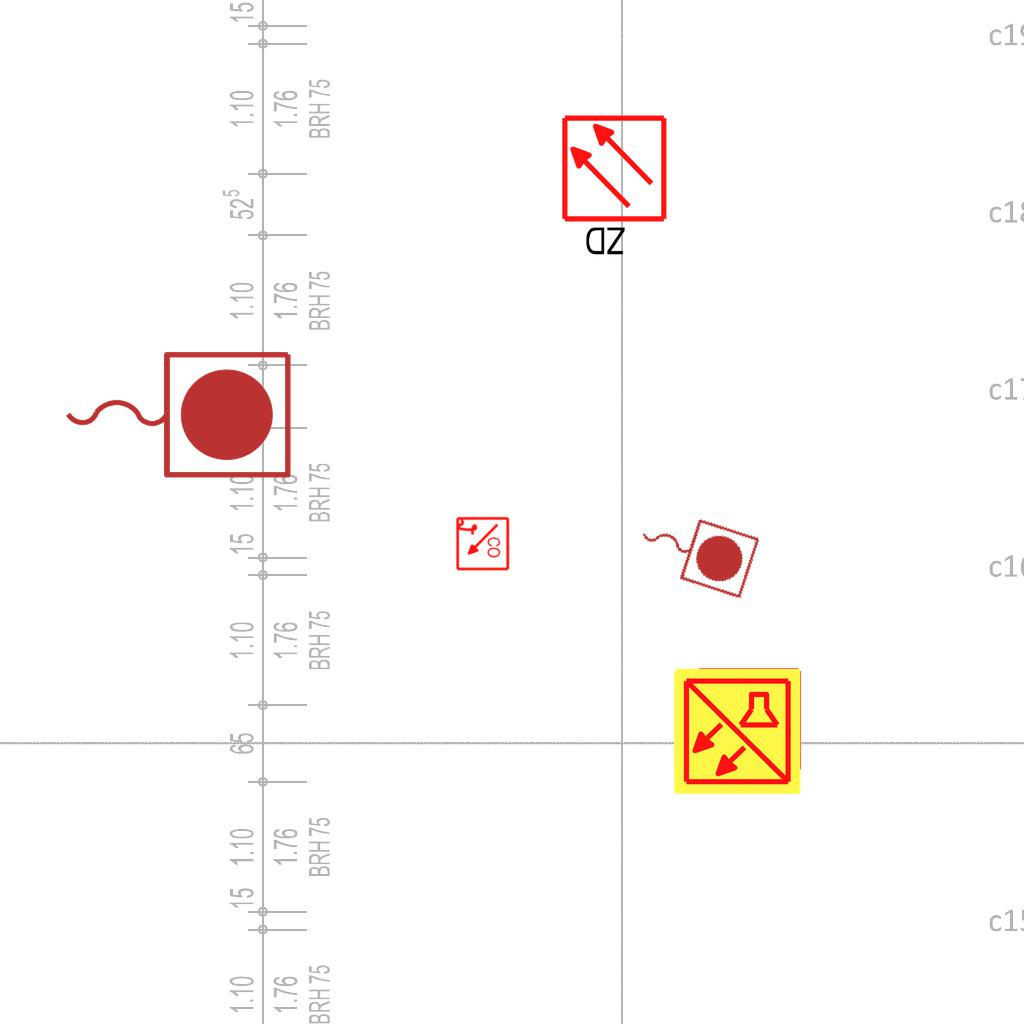OKW_Multisensormelder_(Kombination_optischer_Rauch-Kahlenmonoxid_Waerme-Melder): (671, 665, 803, 797)
ROA_Rauchmelder_optisch_mit_Signalgeber_(Sockelsirene): (454, 516, 510, 572)
ZD_Melder_in_Zwischendecke_mit_Revisionsoeffnung_mind_40_x_40_cm: (559, 113, 673, 262)
Zugtaster: (55, 341, 299, 485), (626, 496, 766, 604)
